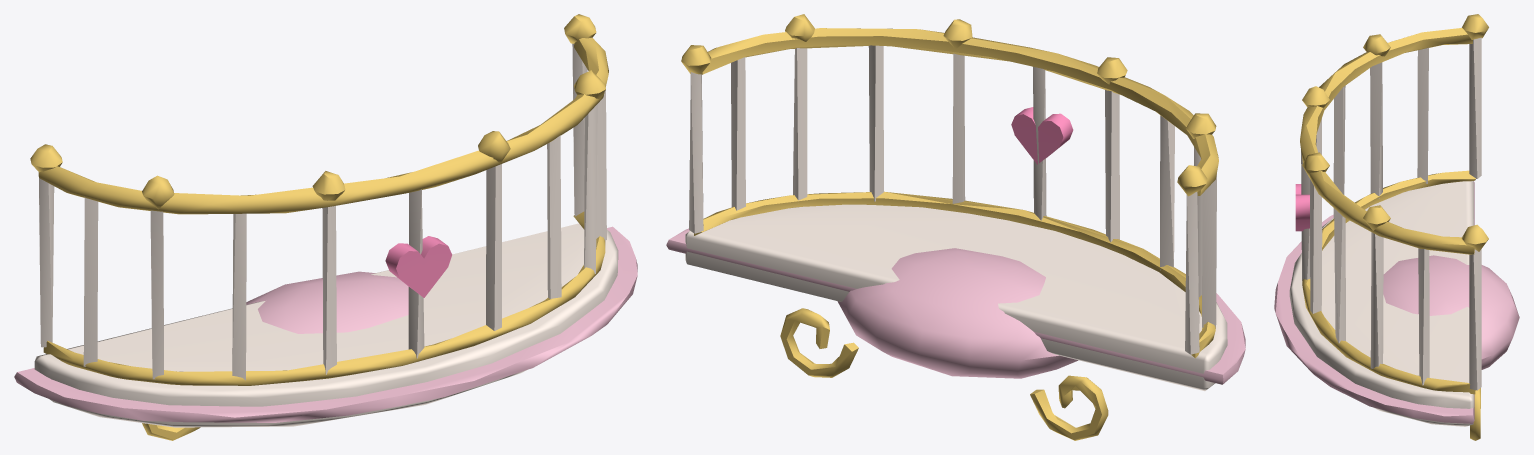
Rendered from balcony_curved.glb.
The picture shows the model from 3 angles, left to right: view 1: azimuth 30°, elevation 25°; view 2: azimuth 150°, elevation 25°; view 3: azimuth 270°, elevation 25°; orthographic projection. The views are drawn at different scales.
Parts seen in each view (by area): view 1: balcony_curved; view 2: balcony_curved; view 3: balcony_curved.
Part boxes in pixels (left/top/right/bottom): balcony_curved: left=14, top=14, right=637, bottom=440; balcony_curved: left=666, top=14, right=1245, bottom=440; balcony_curved: left=1274, top=14, right=1519, bottom=440.
Size of the model in its own units: 3.17 by 1.64 by 1.38.
